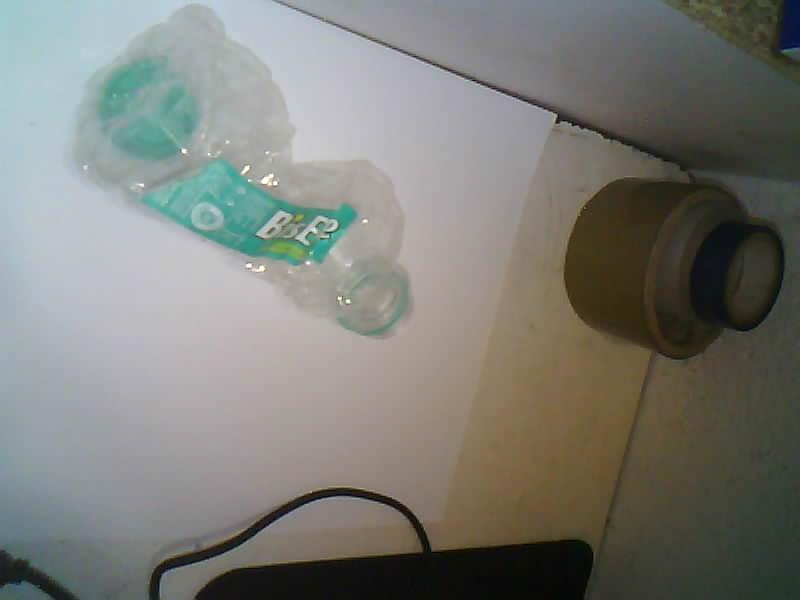non-biodegradable: (77, 5, 410, 336)
